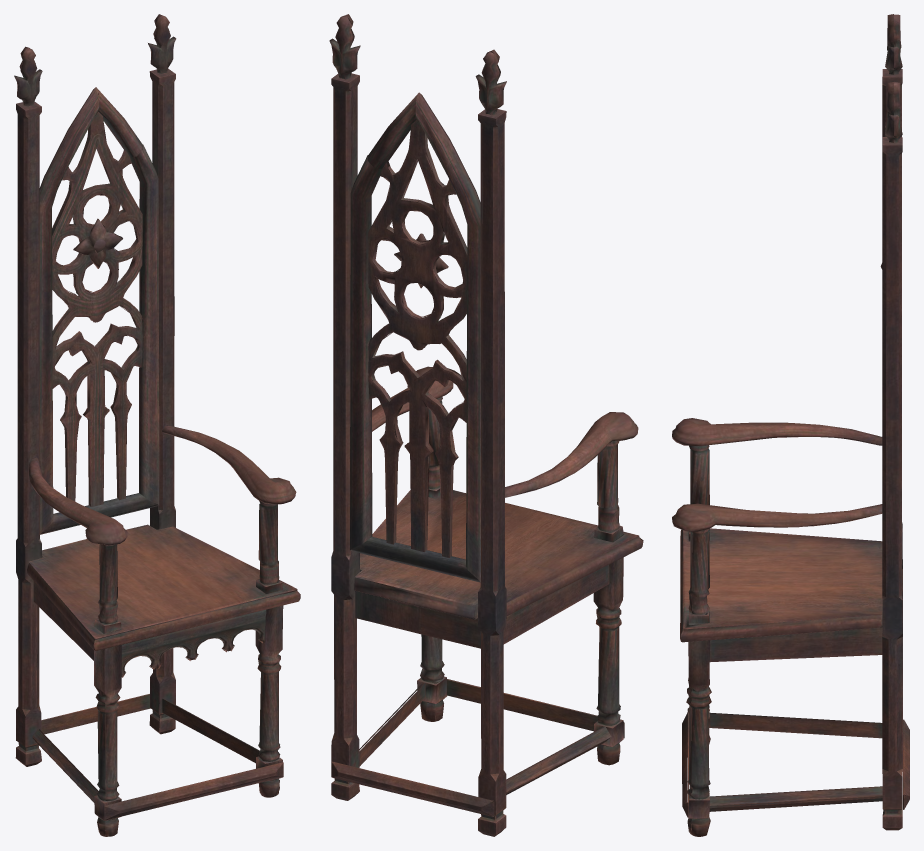
Rendered from WoodenChair_01.glb.
The picture shows the model from 3 angles, left to right: view 1: azimuth 30°, elevation 25°; view 2: azimuth 150°, elevation 25°; view 3: azimuth 270°, elevation 25°; orthographic projection. The views are drawn at different scales.
Parts seen in each view (by area): view 1: WoodenChair_01; view 2: WoodenChair_01; view 3: WoodenChair_01.
Boxes of the visible parts, bbox=[...] form: WoodenChair_01: bbox=[14, 14, 300, 836]; WoodenChair_01: bbox=[329, 14, 643, 836]; WoodenChair_01: bbox=[672, 14, 909, 836].
Size of the model in its own units: 0.6897 by 2.27 by 0.6576.
1 material, 1 textured.
